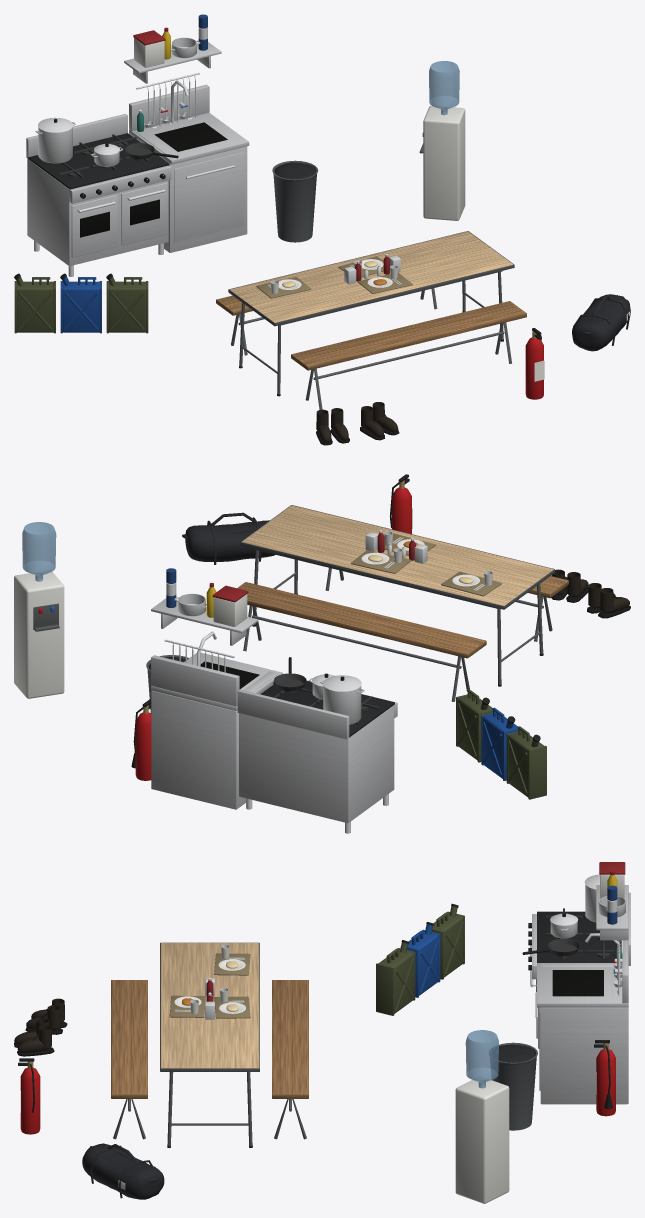
File: polar-chief-fitout.glb
3 renders of one model, top to bottom at view 1: azimuth 30°, elevation 25°; view 2: azimuth 150°, elevation 25°; view 3: azimuth 270°, elevation 25°, orthographic. The views are drawn at different scales.
Parts seen in each view (by area): view 1: POLARCHIEF_fitout; view 2: POLARCHIEF_fitout; view 3: POLARCHIEF_fitout.
Boxes of the visible parts, bbox=[...] form: POLARCHIEF_fitout: bbox=[14, 14, 630, 445]; POLARCHIEF_fitout: bbox=[14, 474, 630, 833]; POLARCHIEF_fitout: bbox=[14, 862, 630, 1203].
Bounding box in the file's own units: 4.73 × 1.89 × 4.98.
30 materials, 6 textured.
